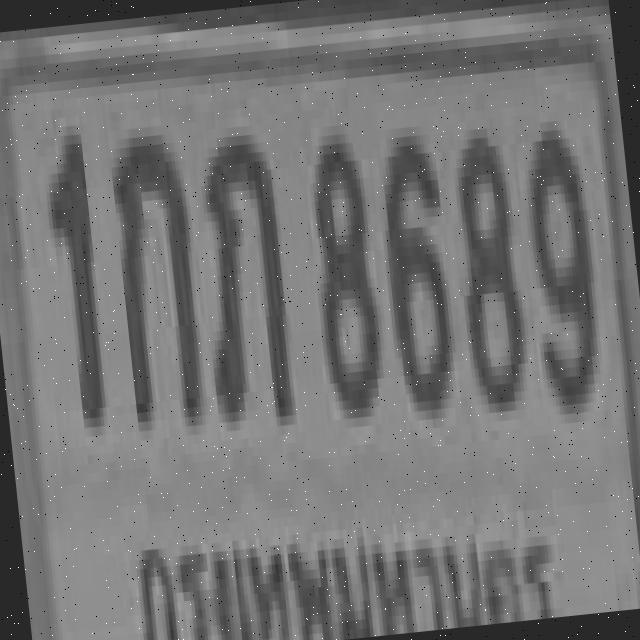1: (39, 125, 106, 420)
10GorGai: (104, 124, 204, 422)
41PhorSamPhao: (186, 124, 294, 422)
6: (372, 130, 458, 408)
8: (300, 123, 383, 411), (446, 117, 528, 405)
9: (516, 118, 603, 406)
Bangkok: (126, 473, 568, 640)
